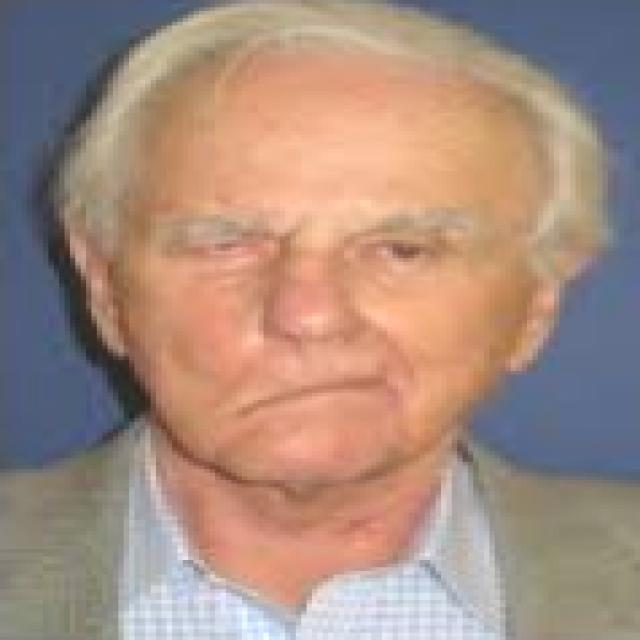stroke_face: (63, 44, 562, 491)
